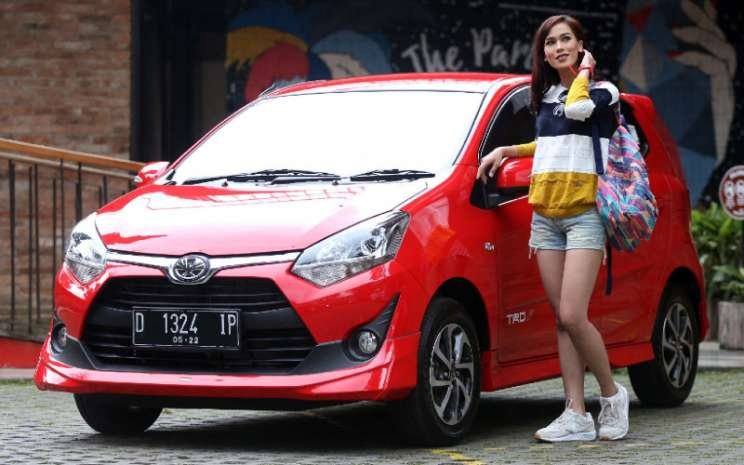mobil: (45, 70, 718, 452)
